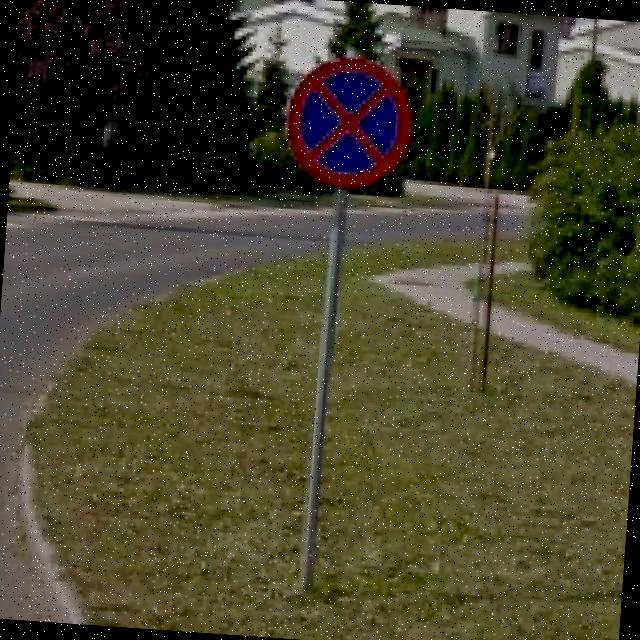Zakaz zatrzymywania sie: (281, 50, 418, 194)
